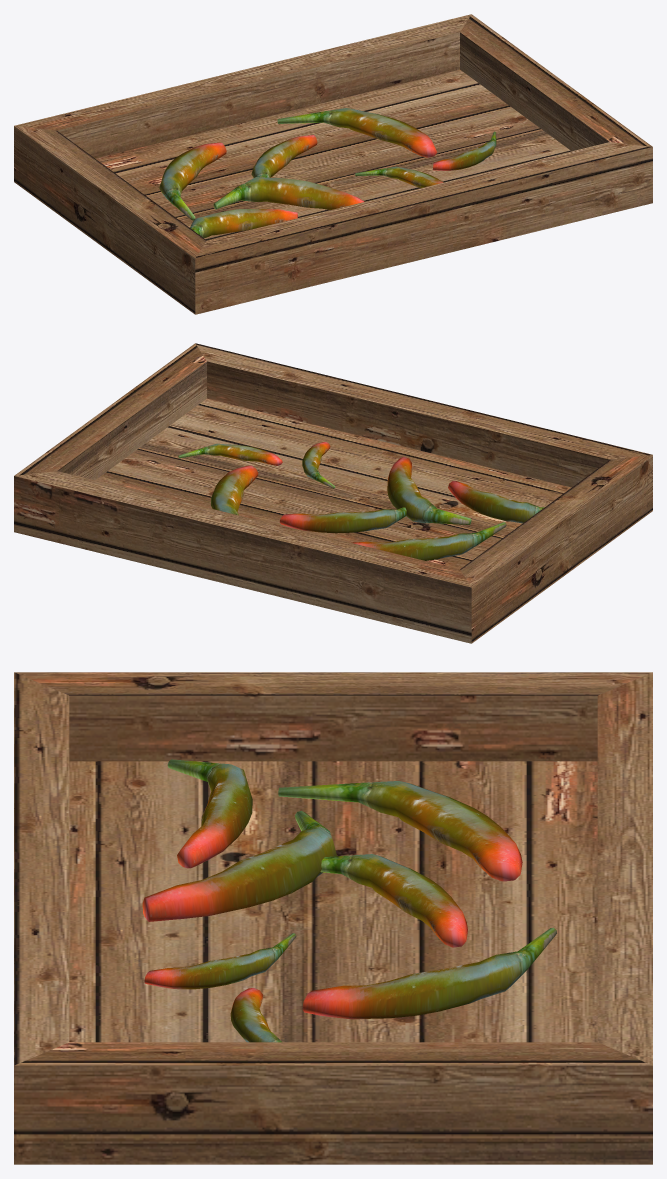
File: fruit_veg6.dae
3 views of the same model, one above another, from view 1: azimuth 30°, elevation 25°; view 2: azimuth 150°, elevation 25°; view 3: azimuth 270°, elevation 25° (orthographic). The views are drawn at different scales.
Visible parts, largest first — view 1: meshU3D; view 2: meshU3D; view 3: meshU3D.
Part boxes in pixels (x1=…): meshU3D: x1=14, y1=14, x2=652, y2=314; meshU3D: x1=14, y1=343, x2=652, y2=643; meshU3D: x1=14, y1=672, x2=652, y2=1164.
Bounding box in the file's own units: 34.57 × 4.06 × 23.73.
